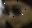without_mask: (1, 1, 32, 28)
